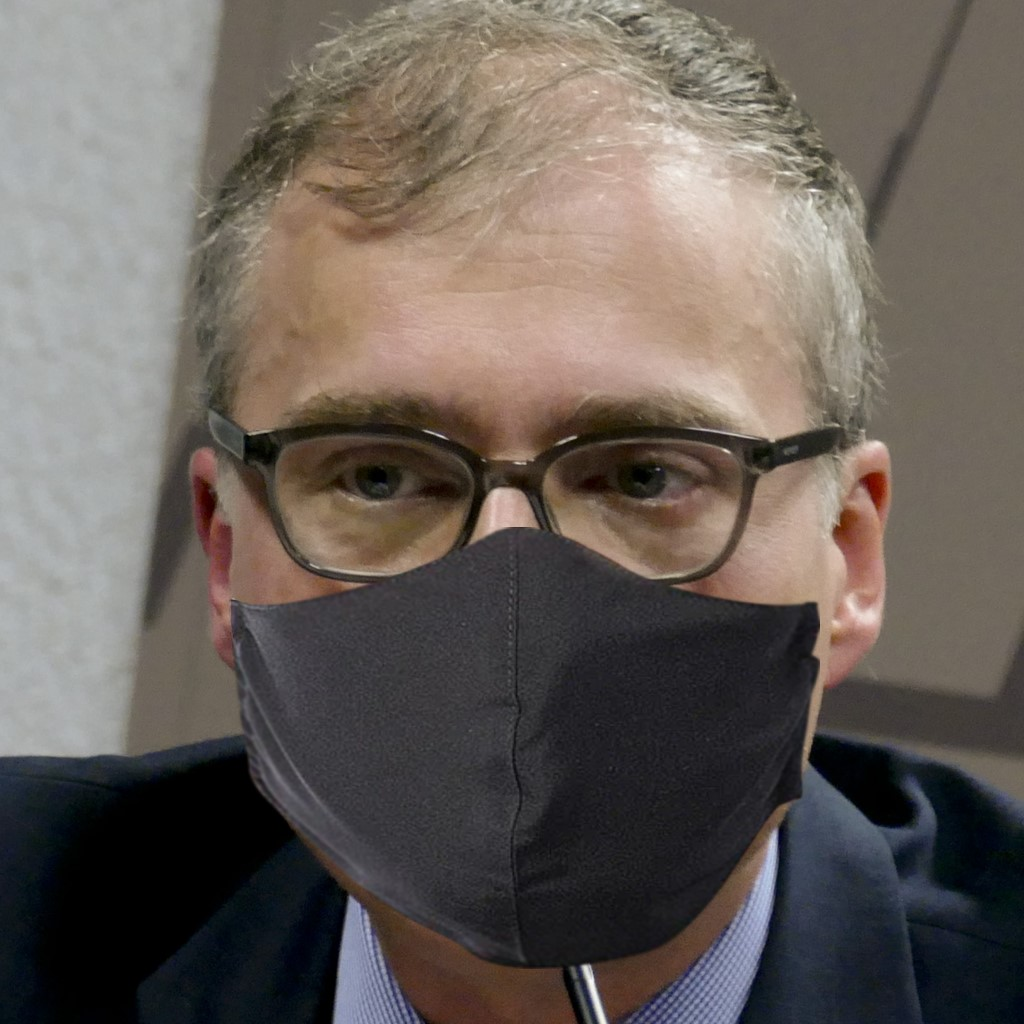con_mascara: (201, 93, 826, 926)
